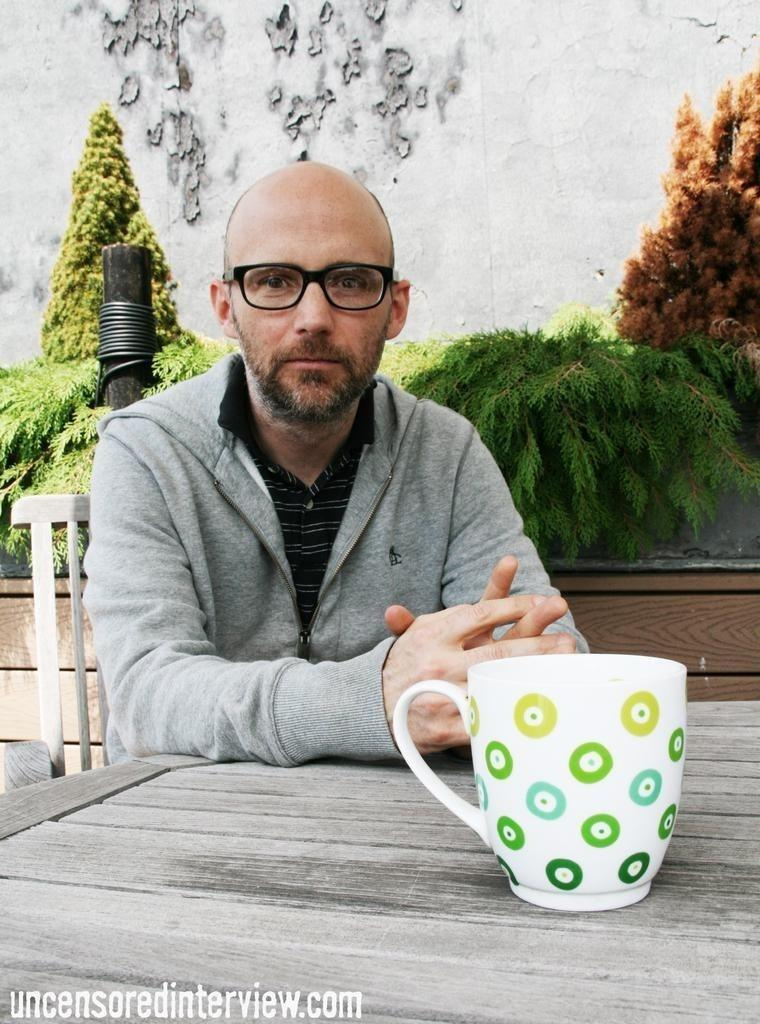cup-handle: (393, 650, 689, 918)
